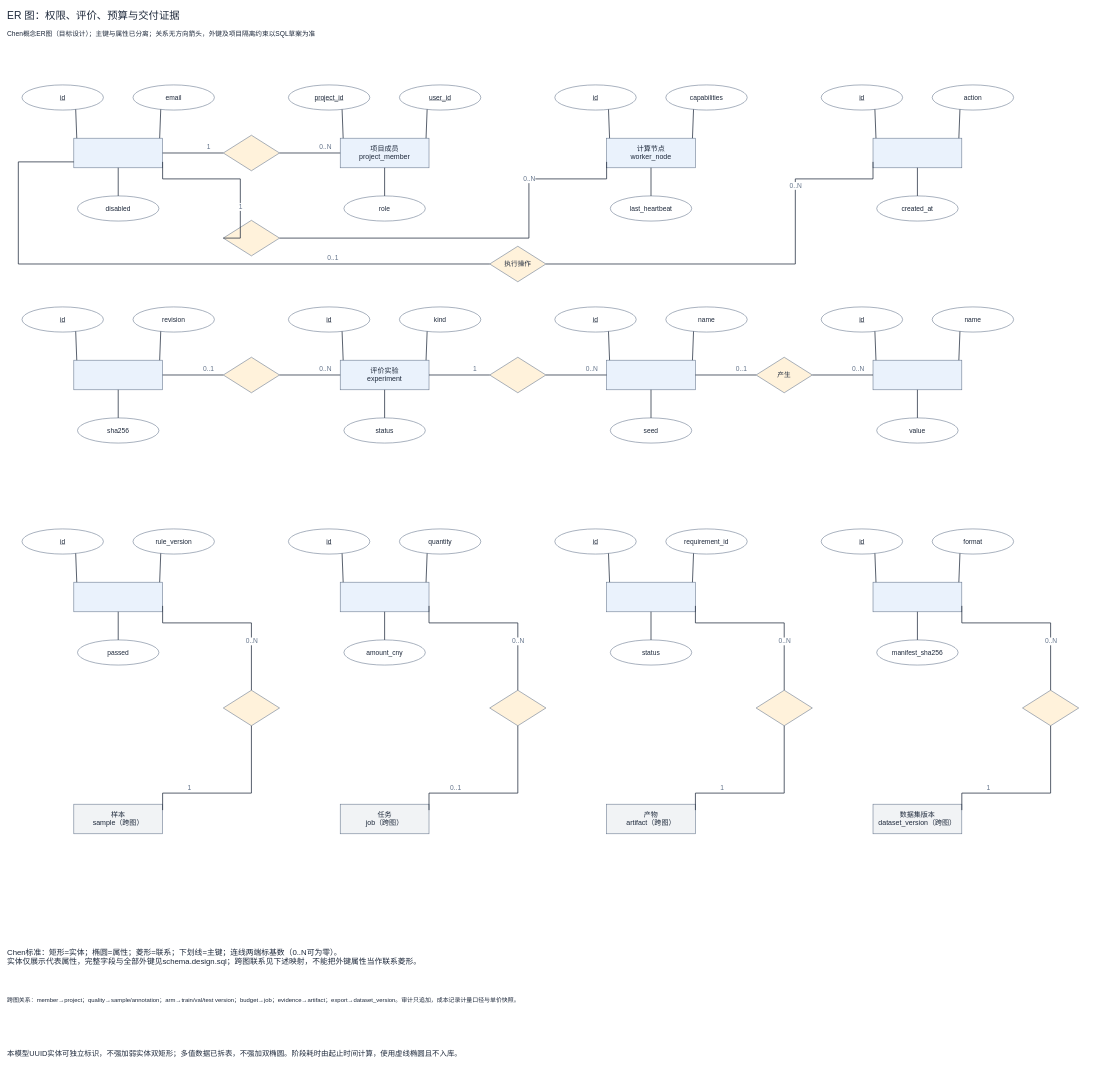
Image size: 1102x1077. Some labels were removed from this diagram. Each missing label, with the centre of its shape:
"交付证据 delivery_evidence" goes at (x=651, y=597).
"加入" goes at (x=251, y=153).
"实验组 experiment_arm" goes at (x=651, y=375).
"审计事件 audit_event" goes at (x=917, y=153).
"导出自" goes at (x=1050, y=708).
"导出记录 export_record" goes at (x=917, y=597).
"引用证据" goes at (x=784, y=708).
"成本记录 budget_usage" goes at (x=384, y=597).
"指标结果 metric_result" goes at (x=917, y=375).
"检验" goes at (x=251, y=708).
"模型资产 model_asset" goes at (x=118, y=375).
"用于评价" goes at (x=251, y=375).
"用户 user_account" goes at (x=118, y=153).
"计量" goes at (x=517, y=708).
"认证节点" goes at (x=251, y=238).
"设置" goes at (x=517, y=375).
"质量结果 quality_result" goes at (x=118, y=597).
